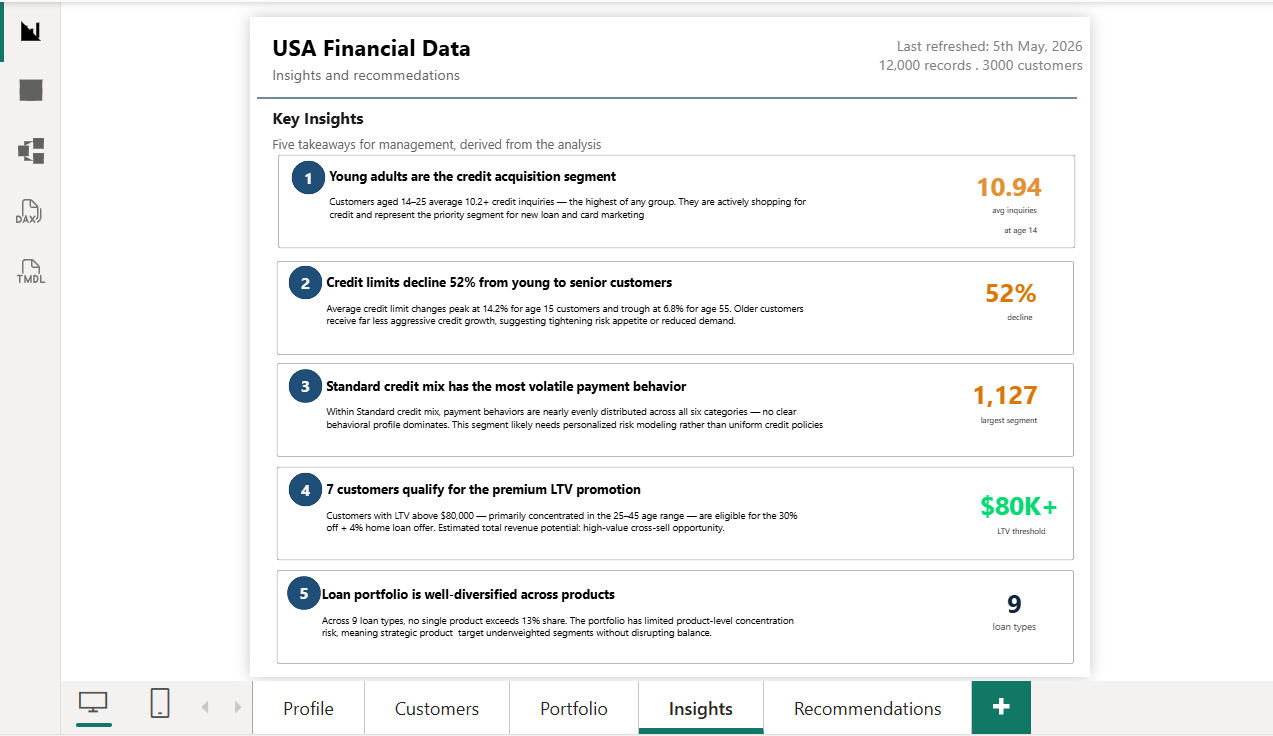

The page's visual inventory and layout, read from the dashboard file:
{"tool":"powerbi","page":{"name":"Insights","canvas":[1400,1100],"ordinal":3},"visuals":[{"type":"group","id":"g1","title":"Group 3","box":[0,0,1400,152.5],"z":0},{"type":"textbox","box":[25,12.5,597.5,80],"z":0,"group":"g1"},{"type":"shape","box":[35,217.9,1352.5,180],"z":0,"group":"g2"},{"type":"shape","box":[32.8,395.7,1352.5,180],"z":0,"group":"g3"},{"type":"shape","box":[32.8,566.2,1352.5,180],"z":0,"group":"g4"},{"type":"shape","box":[32.8,737.5,1352.5,180],"z":0,"group":"g5"},{"type":"shape","box":[32.8,908.8,1352.5,180],"z":0,"group":"g6"},{"type":"textbox","box":[25,67.5,447.5,57.5],"z":1000,"group":"g1"},{"type":"textbox","box":[25,137.5,352.5,70],"z":1000},{"type":"textbox","box":[119.4,237.6,822.5,120],"z":1000,"group":"g2"},{"type":"textbox","box":[114.3,414.5,827.5,117.5],"z":1000,"group":"g3"},{"type":"textbox","box":[115.3,588.3,865,137.8],"z":1000,"group":"g4"},{"type":"textbox","box":[115.3,760.2,817.5,117.5],"z":1000,"group":"g5"},{"type":"textbox","box":[106.8,933.8,835,120],"z":1000,"group":"g6"},{"type":"textbox","box":[1017.5,0,382.5,122.5],"z":2000,"group":"g1"},{"type":"textbox","box":[25,185,725,65],"z":2000},{"type":"shape","box":[57.5,227.9,80,80],"z":2000,"group":"g2"},{"type":"shape","box":[52.4,402,80,80],"z":2000,"group":"g3"},{"type":"shape","box":[52.4,575.2,80,80],"z":2000,"group":"g4"},{"type":"shape","box":[52.4,746.5,80,80],"z":2000,"group":"g5"},{"type":"shape","box":[50.3,918.8,80,80],"z":2000,"group":"g6"},{"type":"shape","box":[0,117.5,1390,35],"z":3000,"group":"g1"},{"type":"group","id":"g2","title":"Group 1","box":[35,217.9,1352.5,180],"z":3000},{"type":"group","id":"g3","title":"Group 1","box":[32.8,395.7,1352.5,180],"z":4000},{"type":"group","id":"g4","title":"Group 1","box":[32.8,566.2,1352.5,180],"z":5000},{"type":"group","id":"g5","title":"Group 1","box":[32.8,737.5,1352.5,180],"z":6000},{"type":"group","id":"g6","title":"Group 1","box":[32.8,908.8,1352.5,180],"z":7000},{"type":"group","id":"g7","title":"Group 2","box":[1196.2,240,155,135],"z":8000},{"type":"textbox","box":[1196.2,240,150,112.5],"z":8000,"group":"g8"},{"type":"textbox","box":[1212.1,417.5,150,112.5],"z":8000,"group":"g9"},{"type":"textbox","box":[1174.6,587.5,150,112.5],"z":8000,"group":"g10"},{"type":"textbox","box":[1177.5,772.5,182.5,110],"z":8000,"group":"g11"},{"type":"textbox","box":[1223.7,300,107.5,42.5],"z":9000,"group":"g8"},{"type":"textbox","box":[1249.6,477.5,107.5,42.5],"z":9000,"group":"g9"},{"type":"textbox","box":[1187.1,650,180,45],"z":9000,"group":"g10"},{"type":"textbox","box":[1188.7,833.7,180,45],"z":9000,"group":"g11"},{"type":"group","id":"g8","title":"Group 4","box":[1196.2,240,155,135],"z":9003,"group":"g7"},{"type":"textbox","box":[1243.7,332.5,107.5,42.5],"z":10000,"group":"g8"},{"type":"textbox","box":[1182.5,935,182.5,110],"z":10000},{"type":"group","id":"g9","title":"Group 2","box":[1212.1,417.5,150,112.5],"z":11000},{"type":"group","id":"g10","title":"Group 2","box":[1174.6,587.5,192.5,112.5],"z":12000},{"type":"group","id":"g11","title":"Group 2","box":[1177.5,772.5,190,110],"z":13000}]}

Visuals, with their boxes on the page's 1400x1100 design canvas (x1, y1, x2, y2). These are canvas units, not pixel positions in the 1273x736 screenshot, which may show the page scaled, cropped or inside an application window:
"Group 3" group: bbox(0, 0, 1400, 152)
textbox: bbox(25, 12, 622, 92)
shape: bbox(35, 218, 1388, 398)
shape: bbox(33, 396, 1385, 576)
shape: bbox(33, 566, 1385, 746)
shape: bbox(33, 738, 1385, 918)
shape: bbox(33, 909, 1385, 1089)
textbox: bbox(25, 68, 472, 125)
textbox: bbox(25, 138, 378, 208)
textbox: bbox(119, 238, 942, 358)
textbox: bbox(114, 414, 942, 532)
textbox: bbox(115, 588, 980, 726)
textbox: bbox(115, 760, 933, 878)
textbox: bbox(107, 934, 942, 1054)
textbox: bbox(1018, 0, 1400, 122)
textbox: bbox(25, 185, 750, 250)
shape: bbox(58, 228, 138, 308)
shape: bbox(52, 402, 132, 482)
shape: bbox(52, 575, 132, 655)
shape: bbox(52, 746, 132, 826)
shape: bbox(50, 919, 130, 999)
shape: bbox(0, 118, 1390, 152)
"Group 1" group: bbox(35, 218, 1388, 398)
"Group 1" group: bbox(33, 396, 1385, 576)
"Group 1" group: bbox(33, 566, 1385, 746)
"Group 1" group: bbox(33, 738, 1385, 918)
"Group 1" group: bbox(33, 909, 1385, 1089)
"Group 2" group: bbox(1196, 240, 1351, 375)
textbox: bbox(1196, 240, 1346, 352)
textbox: bbox(1212, 418, 1362, 530)
textbox: bbox(1175, 588, 1325, 700)
textbox: bbox(1178, 772, 1360, 882)
textbox: bbox(1224, 300, 1331, 342)
textbox: bbox(1250, 478, 1357, 520)
textbox: bbox(1187, 650, 1367, 695)
textbox: bbox(1189, 834, 1369, 879)
"Group 4" group: bbox(1196, 240, 1351, 375)
textbox: bbox(1244, 332, 1351, 375)
textbox: bbox(1182, 935, 1365, 1045)
"Group 2" group: bbox(1212, 418, 1362, 530)
"Group 2" group: bbox(1175, 588, 1367, 700)
"Group 2" group: bbox(1178, 772, 1368, 882)
